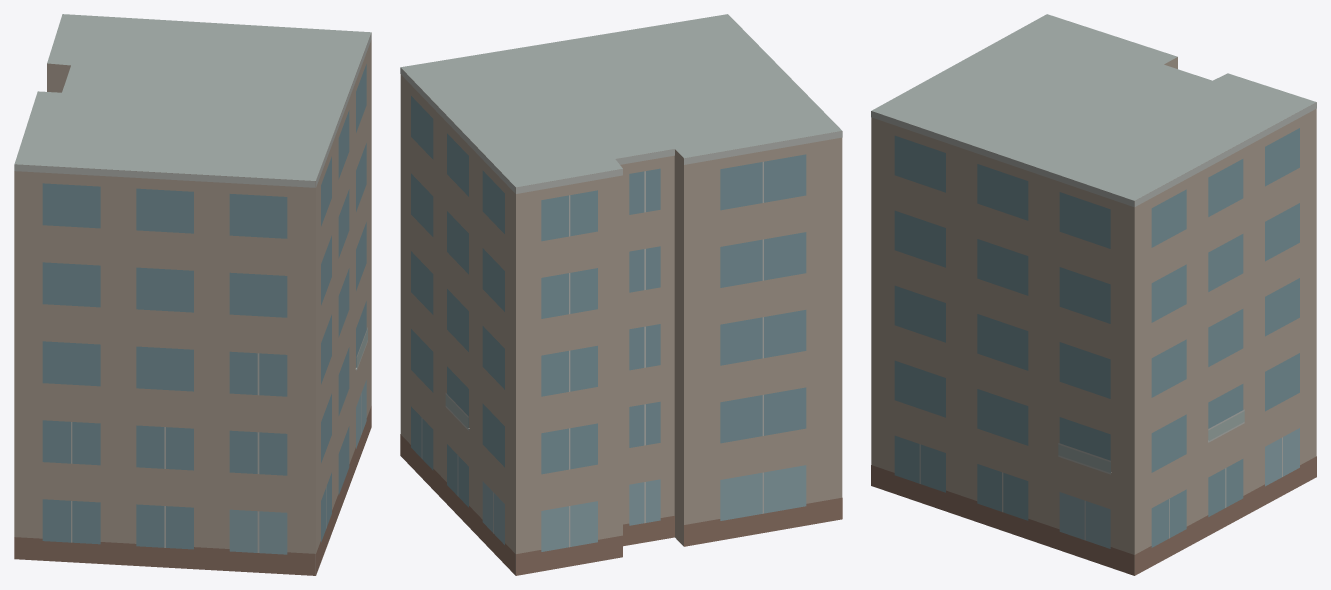
The model's file is survey-upis-32665047.glb.
The picture shows the model from 3 angles, left to right: view 1: azimuth 30°, elevation 25°; view 2: azimuth 150°, elevation 25°; view 3: azimuth 270°, elevation 25°; orthographic projection. The views are drawn at different scales.
Visible parts, largest first — view 1: survey-upis-32665047.tmp; view 2: survey-upis-32665047.tmp; view 3: survey-upis-32665047.tmp.
Part boxes in pixels (x1,y1,x2,y2): survey-upis-32665047.tmp: [14, 14, 371, 575]; survey-upis-32665047.tmp: [400, 14, 842, 575]; survey-upis-32665047.tmp: [871, 14, 1316, 575].
Size of the model in its own units: 15.18 by 14.2 by 15.3.
